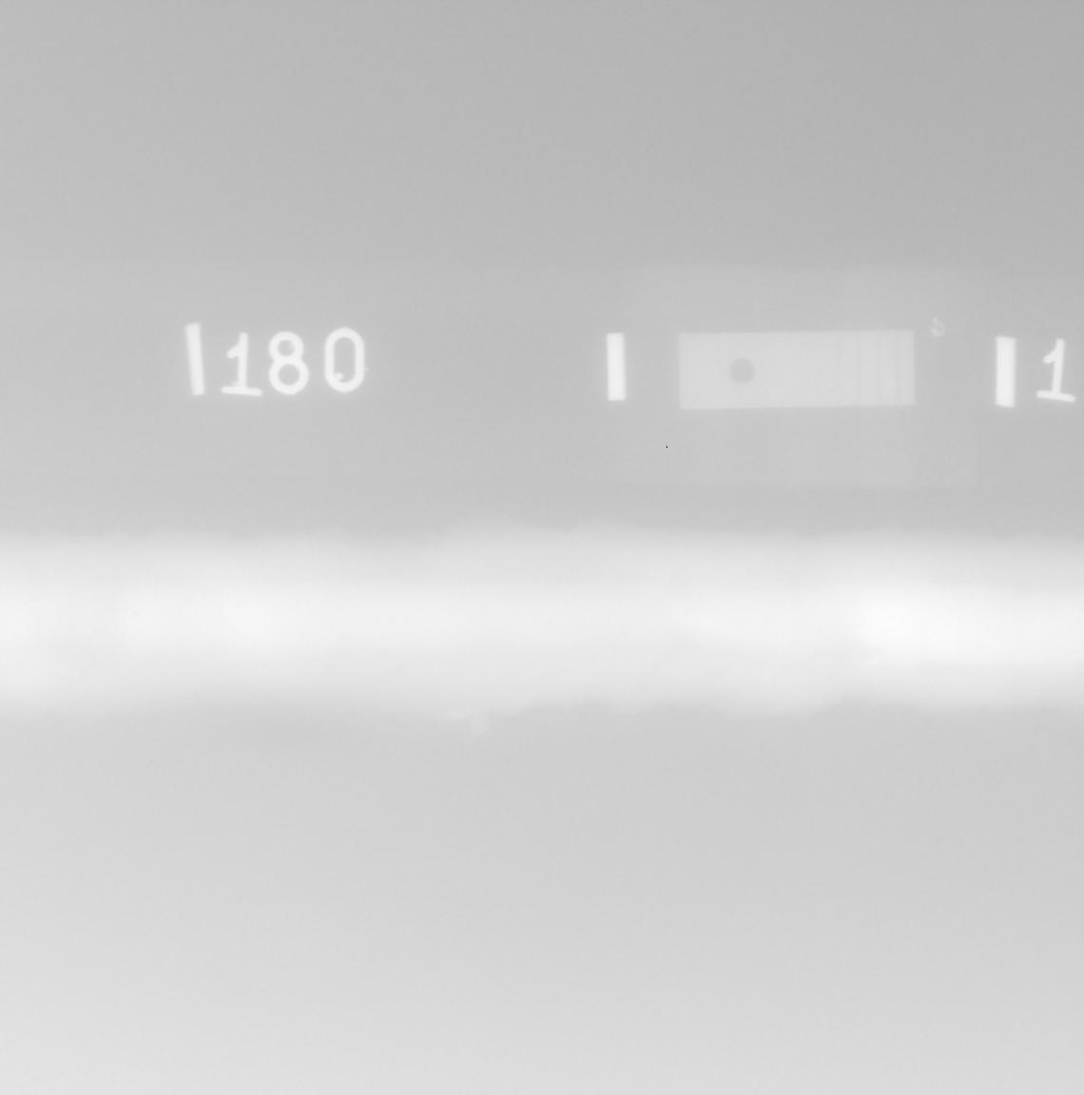Pore/Porosity: (133, 610, 138, 616)
Reference Standard 1: (678, 330, 915, 409)
